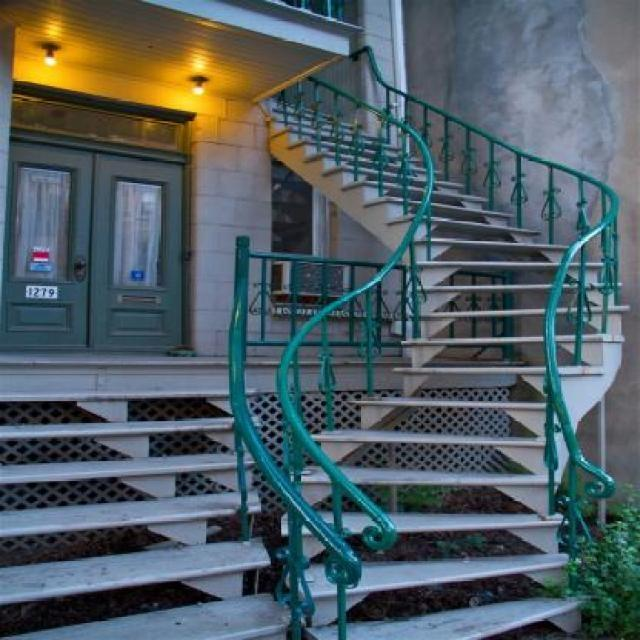stair: (268, 98, 634, 640), (0, 354, 262, 640)
